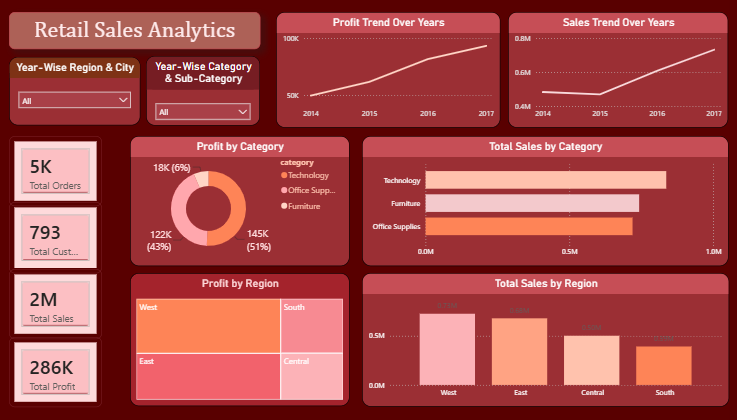

This screenshot's page, from the dashboard's own definition file:
{"tool":"powerbi","page":{"name":"Executive Overview","canvas":[1280,720],"ordinal":0},"visuals":[{"type":"cardVisual","fields":{"Data":["Measures (2).Total Sales"]},"box":[48.3,0,216.7,137.7],"z":0},{"type":"cardVisual","fields":{"Data":["Measures (2).Total Customers"]},"box":[698,0,193.2,139.4],"z":1000},{"type":"cardVisual","fields":{"Data":["Measures (2).Total Profit"]},"box":[264.9,0,226.8,137.7],"z":2000},{"type":"cardVisual","fields":{"Data":["Measures (2).Total Orders"]},"box":[491.7,0,206.6,139.4],"z":3000},{"type":"slicer","fields":{"Values":["Global_Superstore_cleaned.order_year","Global_Superstore_cleaned.region","Global_Superstore_cleaned.category","Global_Superstore_cleaned.segment"]},"box":[932.2,24.9,301.5,147.8],"z":4000},{"type":"lineChart","title":"Sales Trend","fields":{"Category":["Global_Superstore_cleaned.order_year"],"Y":["Measures (2).Total Sales"]},"box":[48.3,139,547.3,267.8],"z":5000},{"type":"clusteredBarChart","title":"Total Sales by Category","fields":{"Category":["Global_Superstore_cleaned.category"],"Y":["Measures (2).Total Sales"]},"box":[626.3,172.7,654.1,235.6],"z":6000},{"type":"clusteredColumnChart","title":"Total Profit by Region","fields":{"Category":["Global_Superstore_cleaned.region"],"Y":["Measures (2).Total Profit"]},"box":[627.8,425.9,607.3,254.6],"z":7000},{"type":"lineChart","title":"Profit Trend","fields":{"Y":["Measures (2).Total Profit"],"Category":["Global_Superstore_cleaned.order_year"]},"box":[48.3,425.9,547,255],"z":8000}]}

Visuals, with their boxes in screenshot pixels (x1, y1, x2, y2), scaled from the page's 1280x720 canvas onto the 737x420 screenshot:
cardVisual - Measures (2).Total Sales: select_region(28, 0, 153, 80)
cardVisual - Measures (2).Total Customers: select_region(402, 0, 513, 81)
cardVisual - Measures (2).Total Profit: select_region(153, 0, 283, 80)
cardVisual - Measures (2).Total Orders: select_region(283, 0, 402, 81)
slicer - Global_Superstore_cleaned.order_year x Global_Superstore_cleaned.region: select_region(537, 15, 710, 101)
"Sales Trend" lineChart: select_region(28, 81, 343, 237)
"Total Sales by Category" clusteredBarChart: select_region(361, 101, 736, 238)
"Total Profit by Region" clusteredColumnChart: select_region(361, 248, 711, 397)
"Profit Trend" lineChart: select_region(28, 248, 343, 397)
